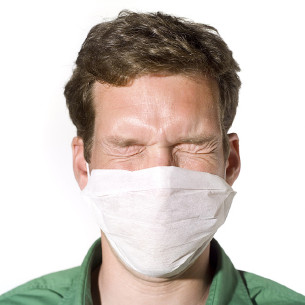face_mask: (81, 79, 233, 277)
